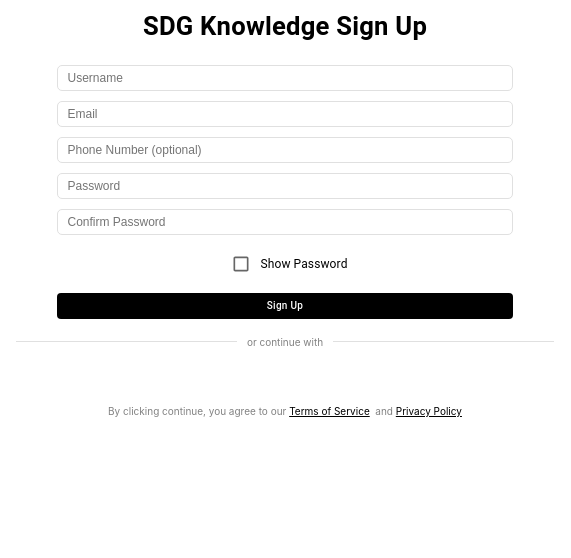
CreateSignUpForm › should allow the user to sign up
Click the button "Sign Up". click: (285, 306)
box: [56,293,514,319]
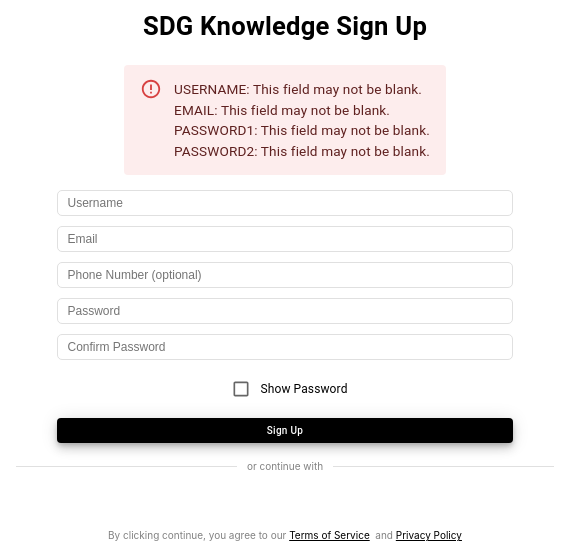
Expected: the text "USERNAME: This field may not be blank." is shown, [174,79,430,100]
Expected: the text "EMAIL: This field may not be blank." is shown, [174,102,390,118]
Expected: the text "PASSWORD1: This field may not be blank." is shown, [174,120,430,141]
